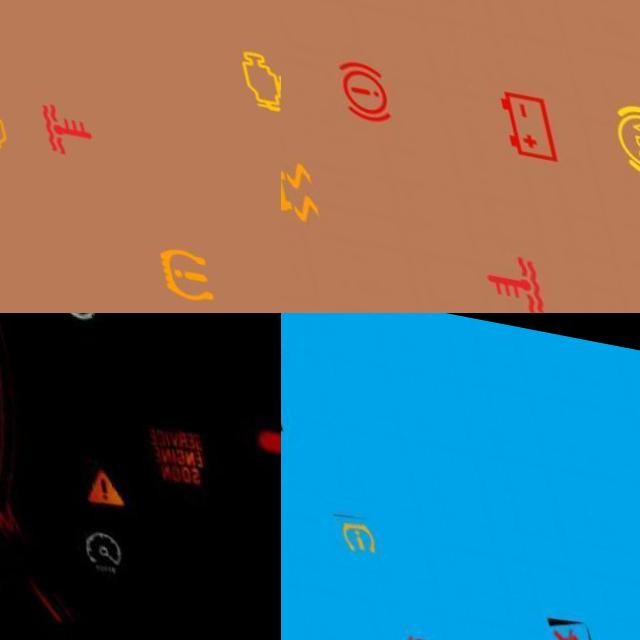High Engine Coolant Temperature: (10, 83, 90, 161)
